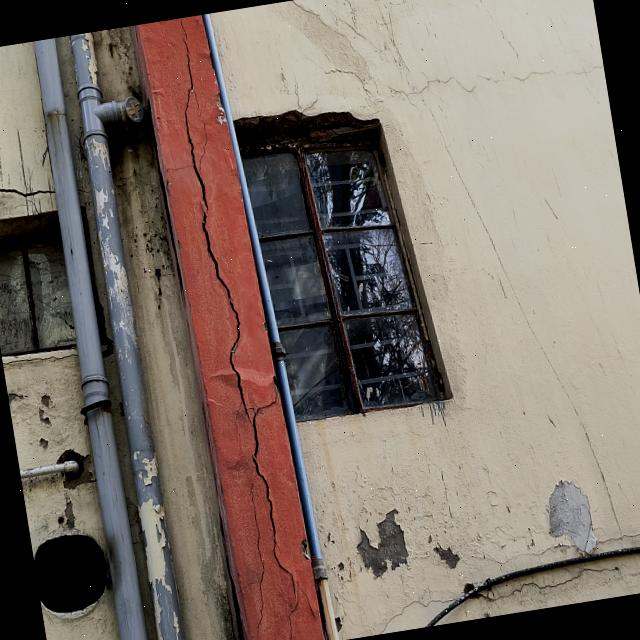Crack: (179, 18, 252, 425), (250, 384, 296, 600), (146, 89, 184, 296), (483, 563, 630, 605), (477, 59, 604, 85), (381, 597, 460, 634), (249, 480, 266, 640), (386, 74, 478, 97), (591, 532, 640, 550), (287, 594, 300, 640), (0, 188, 55, 198)
Paint Peeling: (70, 33, 185, 640), (357, 509, 408, 577), (549, 480, 595, 553), (434, 546, 460, 569)
Scaling: (57, 449, 96, 489), (39, 394, 52, 424), (65, 501, 75, 529), (8, 393, 24, 405), (39, 438, 48, 449)
Spalling: (235, 110, 381, 156)
pollution -moisture induced blackening: (112, 132, 235, 640), (92, 25, 144, 104)
